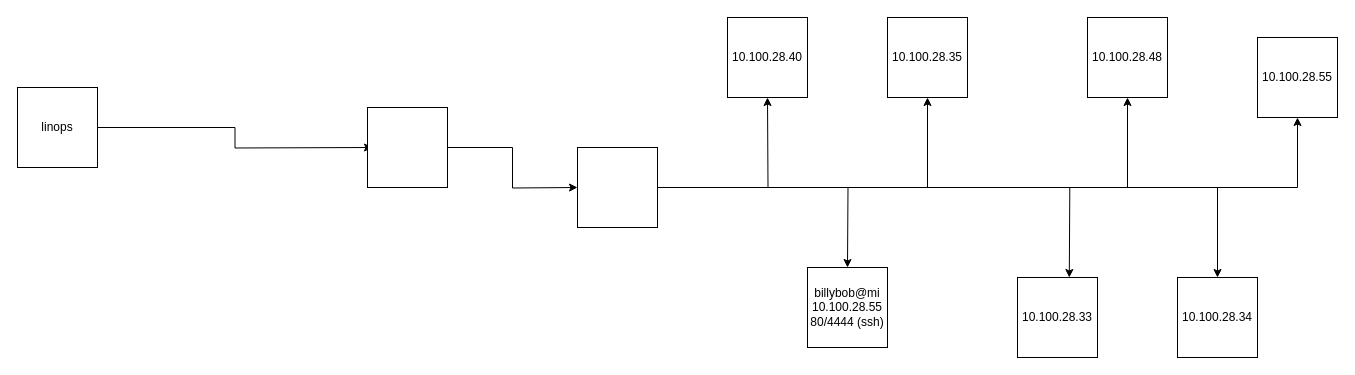
The diagram is 1355 pixels wide and 375 high, and some of its shapes have lost their labels. The centre of each missing label's shape, as x and y in pixels:
billybob@mi 10.100.28.40 80/4444 (ssh): pixel 617 187
donovia lin 10.50.31.225: pixel 407 147
